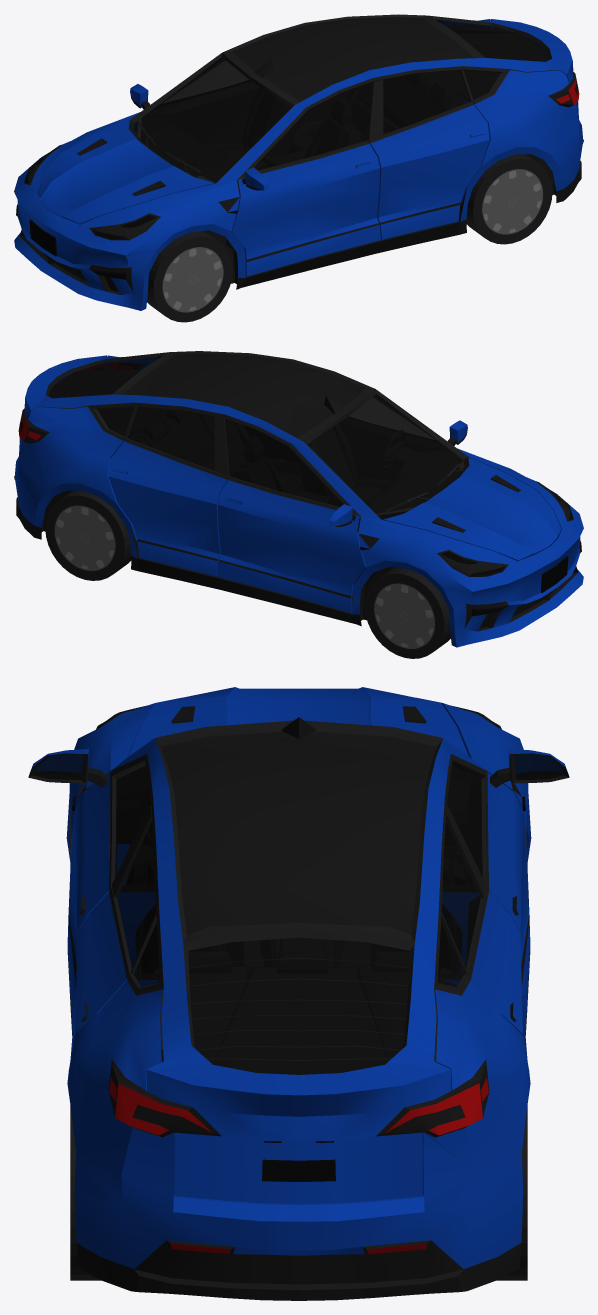
Rendered from EloraGold.fbx.
3 views of the same model, one above another, from view 1: azimuth 30°, elevation 25°; view 2: azimuth 150°, elevation 25°; view 3: azimuth 270°, elevation 25° (orthographic). The views are drawn at different scales.
Visible parts, largest first — view 1: Body, Interior, FrontLeftWheel, RearLeftWheel; view 2: Body, Interior, FrontRightWheel, RearRightWheel; view 3: Body, Interior, RearLeftWheel, RearRightWheel.
Boxes of the visible parts, x1,y1,x2,y2 form: Body: (14,14,583,310); Interior: (137,25,558,252); FrontLeftWheel: (147,231,232,322); RearLeftWheel: (466,154,552,244); Body: (14,351,583,647); Interior: (39,369,464,585); FrontRightWheel: (365,567,450,658); RearRightWheel: (45,490,131,580); Body: (28,687,569,1300); Interior: (89,766,482,1074); RearLeftWheel: (70,1106,100,1280); RearRightWheel: (497,1106,527,1280).
Bounding box in the file's own units: 481 × 165 × 216.
13 materials, 4 textured.
